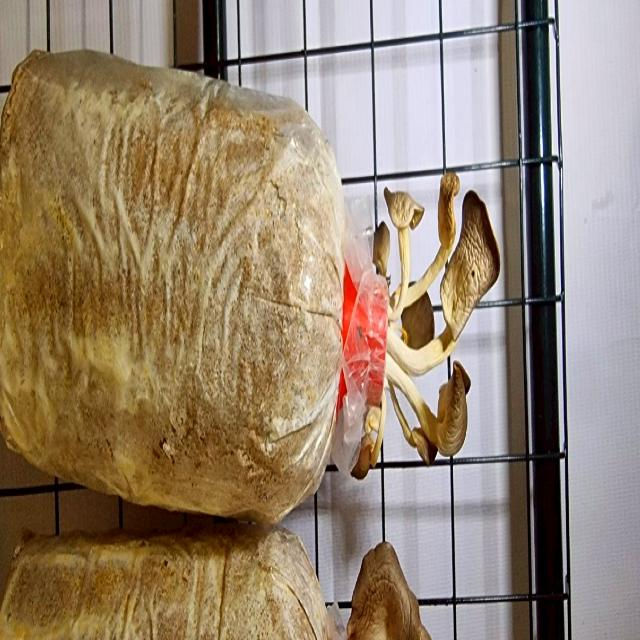abnormal: (435, 172, 508, 342), (405, 366, 477, 473), (430, 134, 460, 278), (383, 160, 426, 244), (366, 174, 389, 274)
